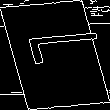L_E: (8, 36, 102, 74)
